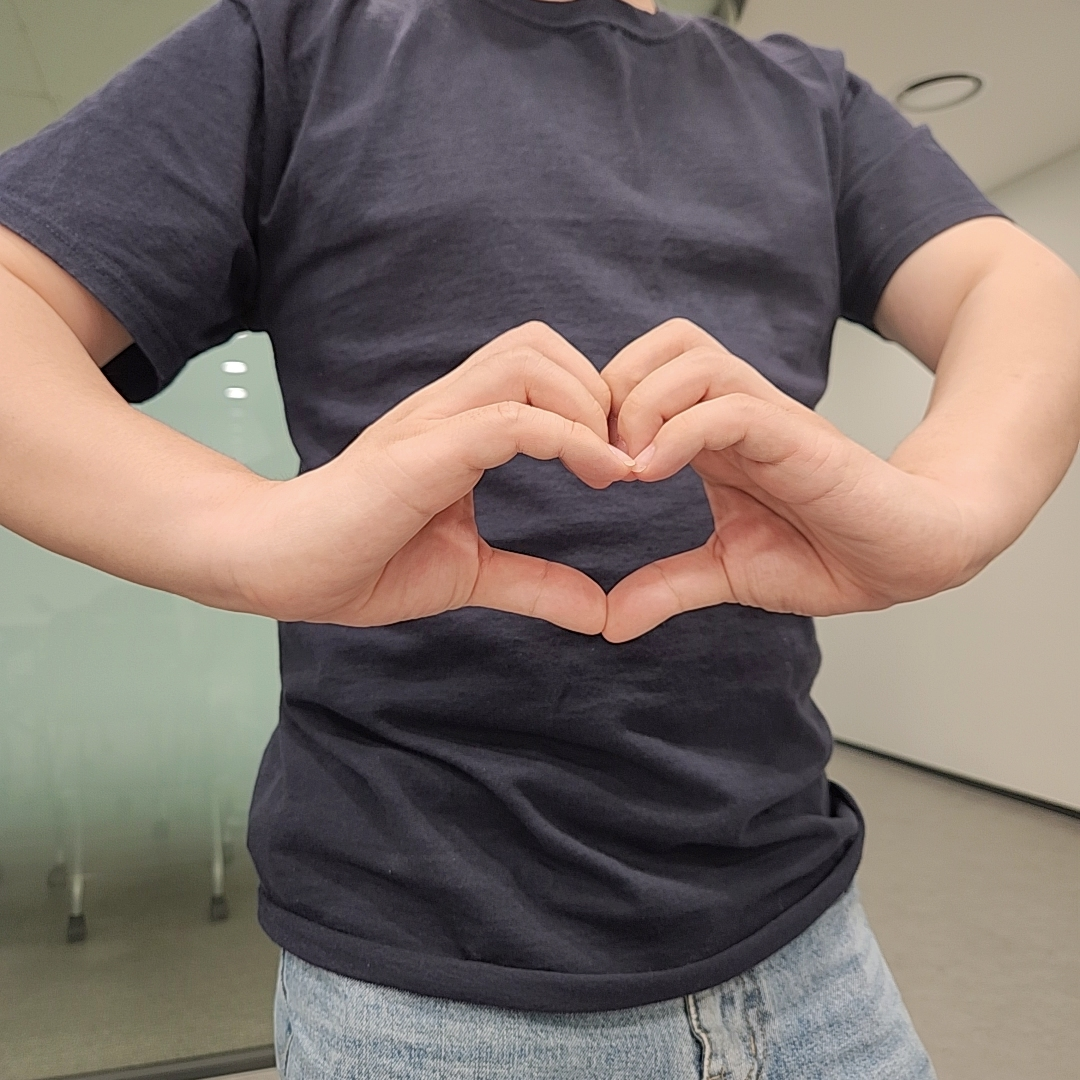heart: (311, 316, 888, 651)
